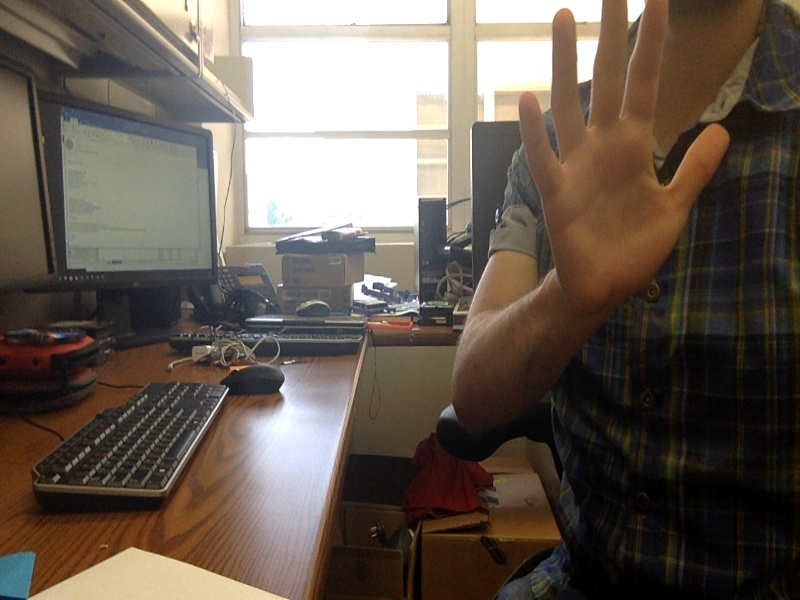5-hand: (521, 3, 730, 314)
